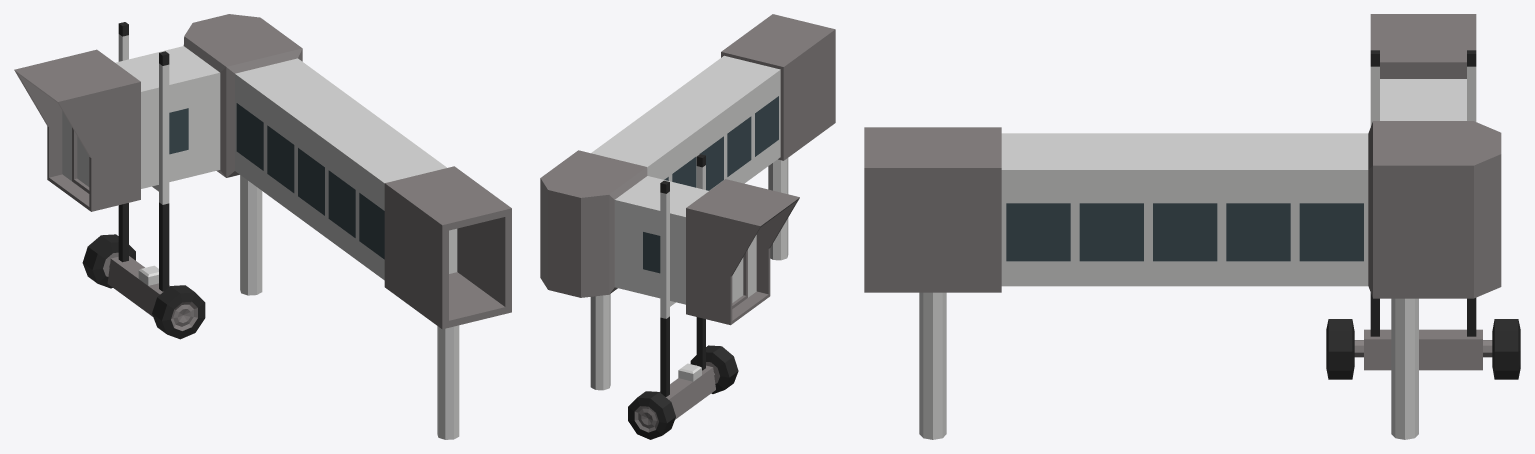
File: buildings_airport-jet-bridge.fbx
The picture shows the model from 3 angles, left to right: view 1: azimuth 30°, elevation 25°; view 2: azimuth 150°, elevation 25°; view 3: azimuth 270°, elevation 25°; orthographic projection. The views are drawn at different scales.
Parts seen in each view (by area): view 1: buildings_airport_jet_bridge; view 2: buildings_airport_jet_bridge; view 3: buildings_airport_jet_bridge.
Part boxes in pixels (x1=…): buildings_airport_jet_bridge: x1=14, y1=14, x2=511, y2=439; buildings_airport_jet_bridge: x1=540, y1=14, x2=835, y2=439; buildings_airport_jet_bridge: x1=864, y1=14, x2=1520, y2=439.
Bounding box in the file's own units: 103 × 109 × 200.
